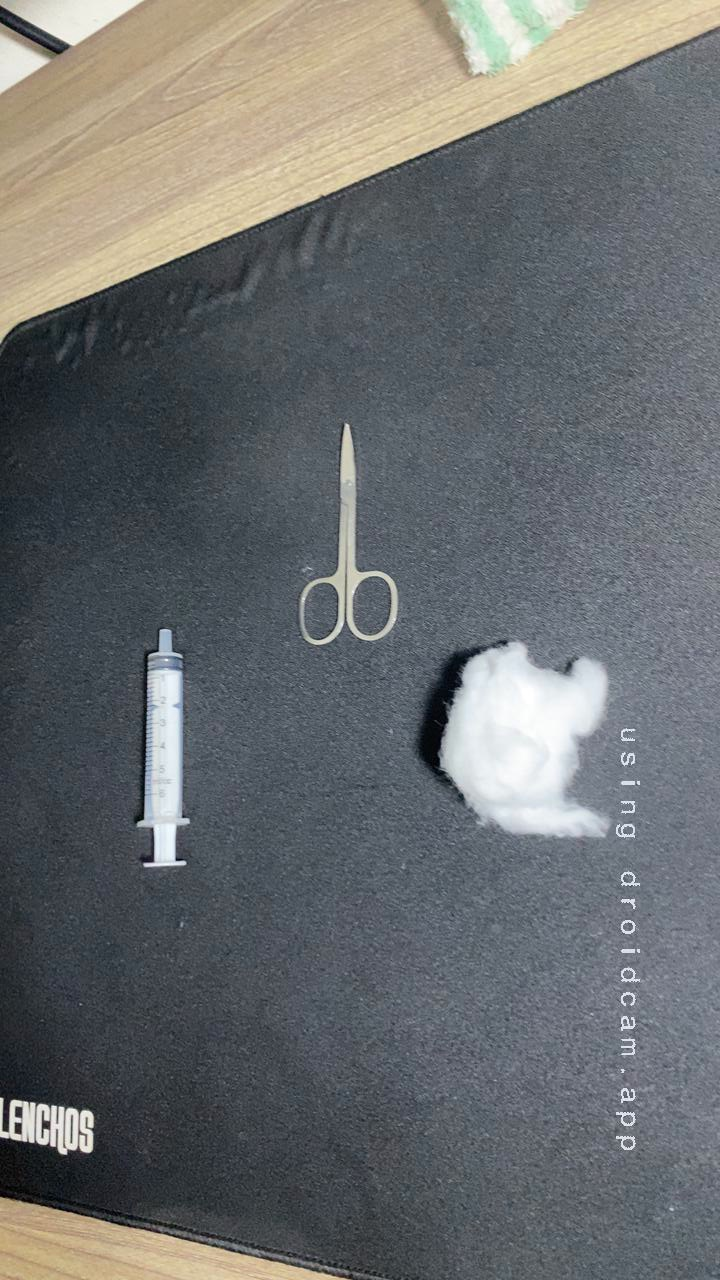cotton: (403, 627, 653, 855)
scissor: (274, 414, 414, 656)
syringe: (108, 616, 224, 881)
